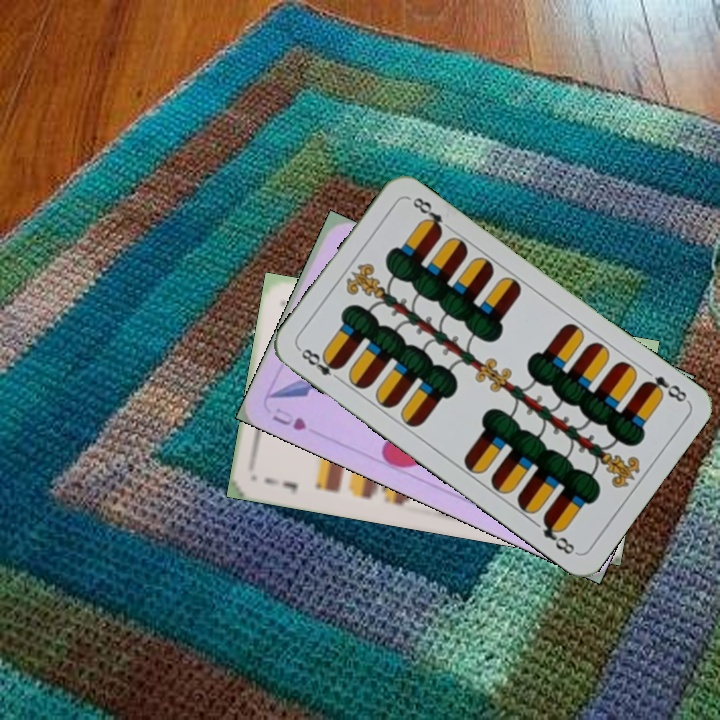E7: (261, 474, 300, 497)
E8: (295, 344, 345, 385), (638, 371, 691, 405)
HU: (268, 404, 309, 434)
